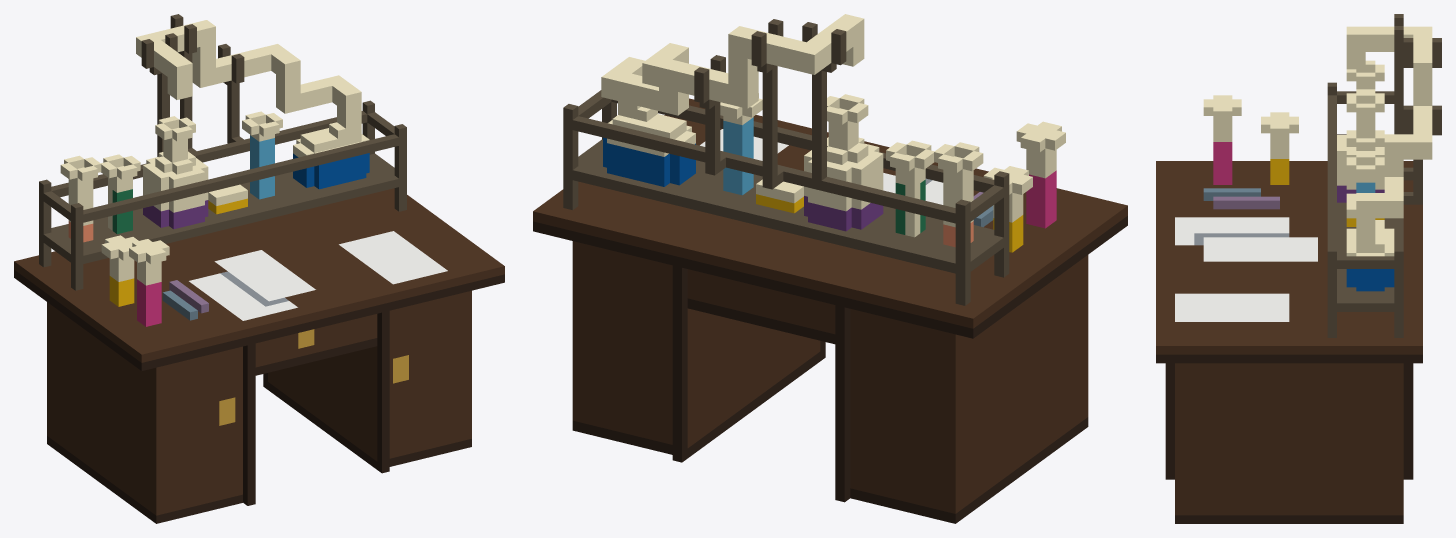
Rendered from ggj lab desk.obj.
3 renders of one model, left to right at view 1: azimuth 30°, elevation 25°; view 2: azimuth 150°, elevation 25°; view 3: azimuth 270°, elevation 25°, orthographic. The views are drawn at different scales.
Bounding box in the file's own units: 4.6 × 4.6 × 3.
1 material, 1 textured.
